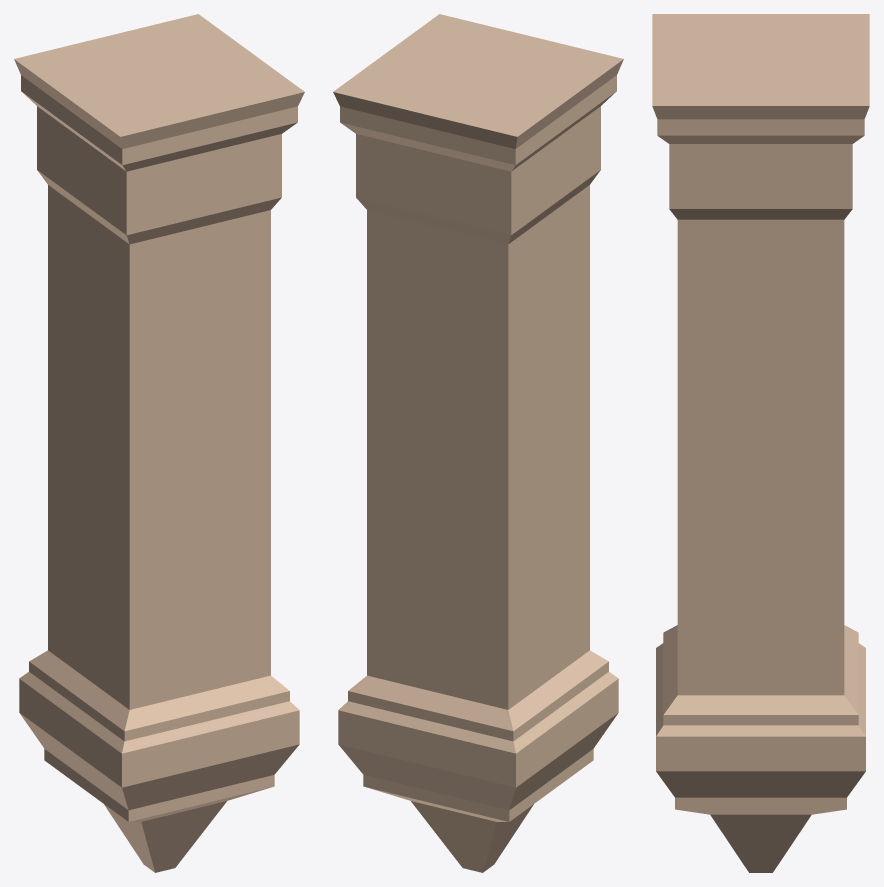
The model's file is BC_InsidePillar_B.fbx.
3 renders of one model, left to right at view 1: azimuth 30°, elevation 25°; view 2: azimuth 150°, elevation 25°; view 3: azimuth 270°, elevation 25°, orthographic. The views are drawn at different scales.
Visible parts, largest first — view 1: BC_InsidePillar_B; view 2: BC_InsidePillar_B; view 3: BC_InsidePillar_B.
Part boxes in pixels (bbox=[...]): BC_InsidePillar_B: bbox=[14, 14, 304, 872]; BC_InsidePillar_B: bbox=[333, 14, 623, 872]; BC_InsidePillar_B: bbox=[652, 14, 869, 872].
Size of the model in its own units: 104 by 428 by 104.
